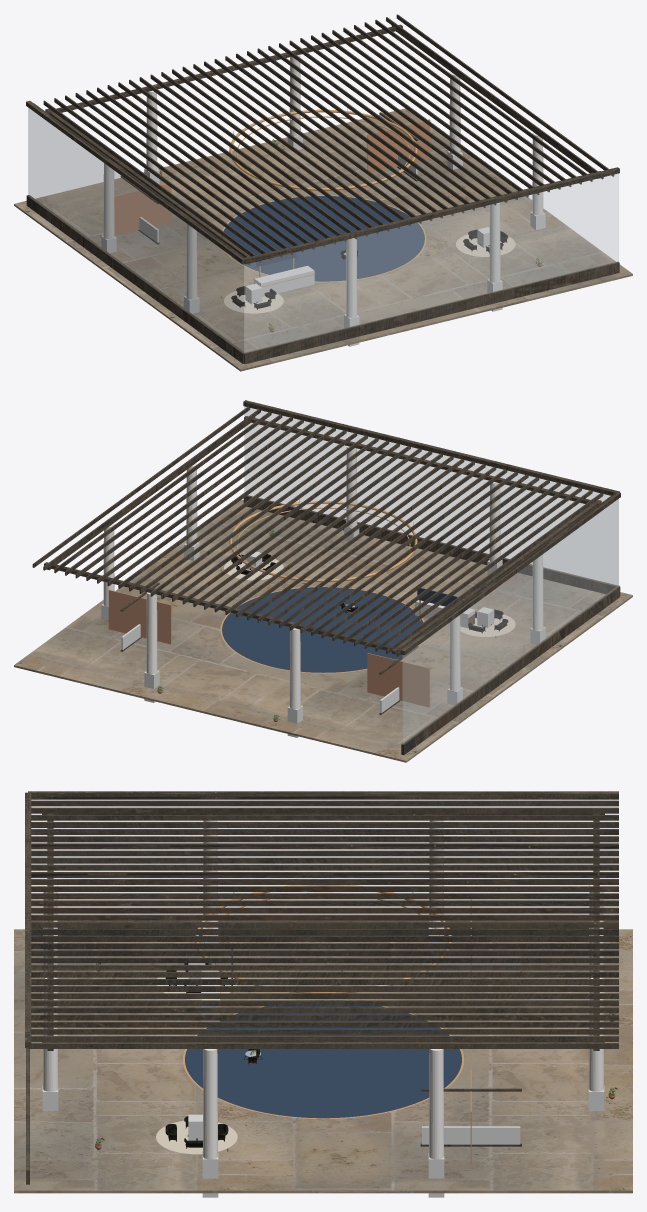
The model's file is lobby.glb.
3 renders of one model, top to bottom at view 1: azimuth 30°, elevation 25°; view 2: azimuth 150°, elevation 25°; view 3: azimuth 270°, elevation 25°, orthographic. The views are drawn at different scales.
Visible parts, largest first — view 1: Lobby_Shell_Baked, COL_Reception, Rug_-13, Rug_13; view 2: Lobby_Shell_Baked, Rug_-13; view 3: Lobby_Shell_Baked, COL_Claustra_14.5, Rug_13.
Part boxes in pixels (x1,y1,x2,y2): Lobby_Shell_Baked: (14, 14, 632, 371); COL_Reception: (254, 266, 314, 296); Rug_-13: (224, 291, 283, 313); Rug_13: (456, 234, 515, 256); Lobby_Shell_Baked: (14, 400, 632, 762); Rug_-13: (460, 613, 515, 636); Lobby_Shell_Baked: (14, 791, 632, 1193); COL_Claustra_14.5: (422, 1126, 520, 1144); Rug_13: (156, 1120, 237, 1154).
Bounding box in the file's own units: 44 × 12.68 × 44.
Materials: 14 (9 with a texture image).
